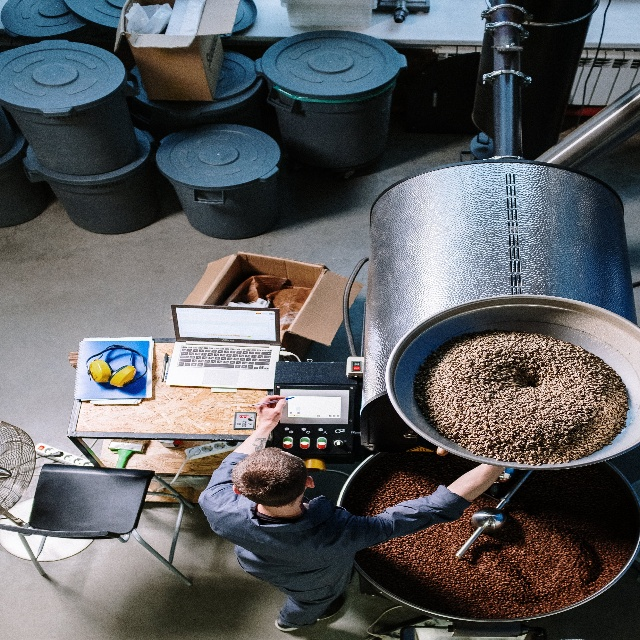Sin_guantes: (254, 393, 287, 429)
